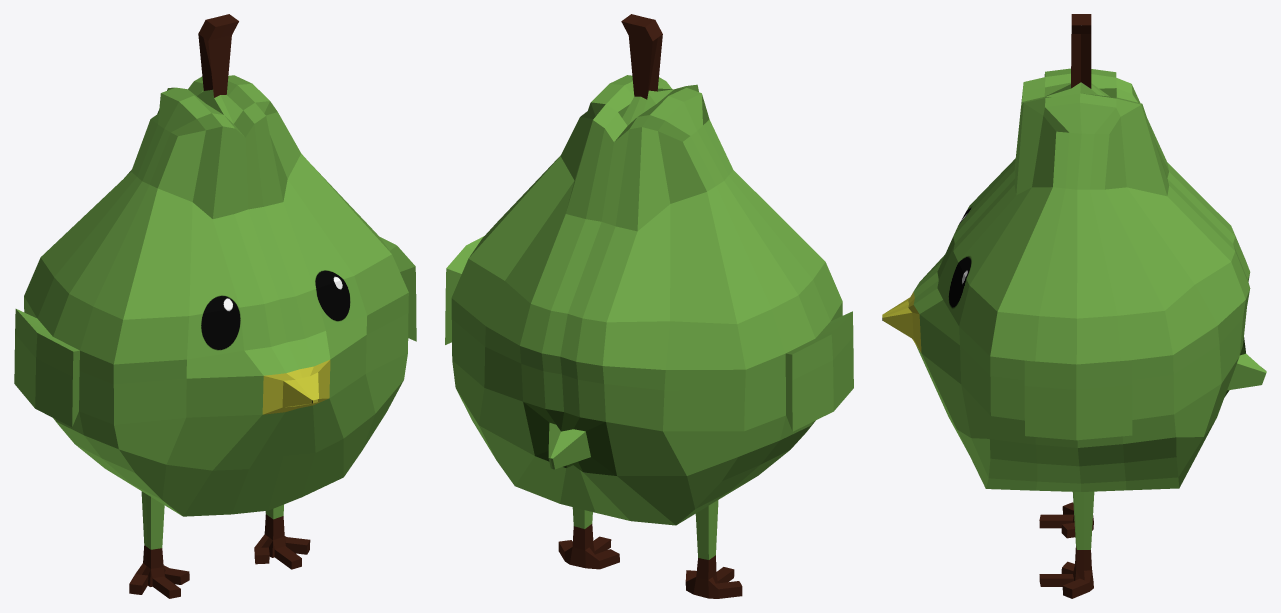
Rendered from PearModel.fbx.
3 renders of one model, left to right at view 1: azimuth 30°, elevation 25°; view 2: azimuth 150°, elevation 25°; view 3: azimuth 270°, elevation 25°, orthographic. The views are drawn at different scales.
Visible parts, largest first — view 1: Pearrot; view 2: Pearrot; view 3: Pearrot.
Part boxes in pixels (x1,y1,x2,y2): Pearrot: (14, 14, 416, 598); Pearrot: (445, 14, 853, 598); Pearrot: (882, 14, 1266, 598).
Bounding box in the file's own units: 16.44 × 23.59 × 15.22.
Materials: 2 (1 with a texture image).
